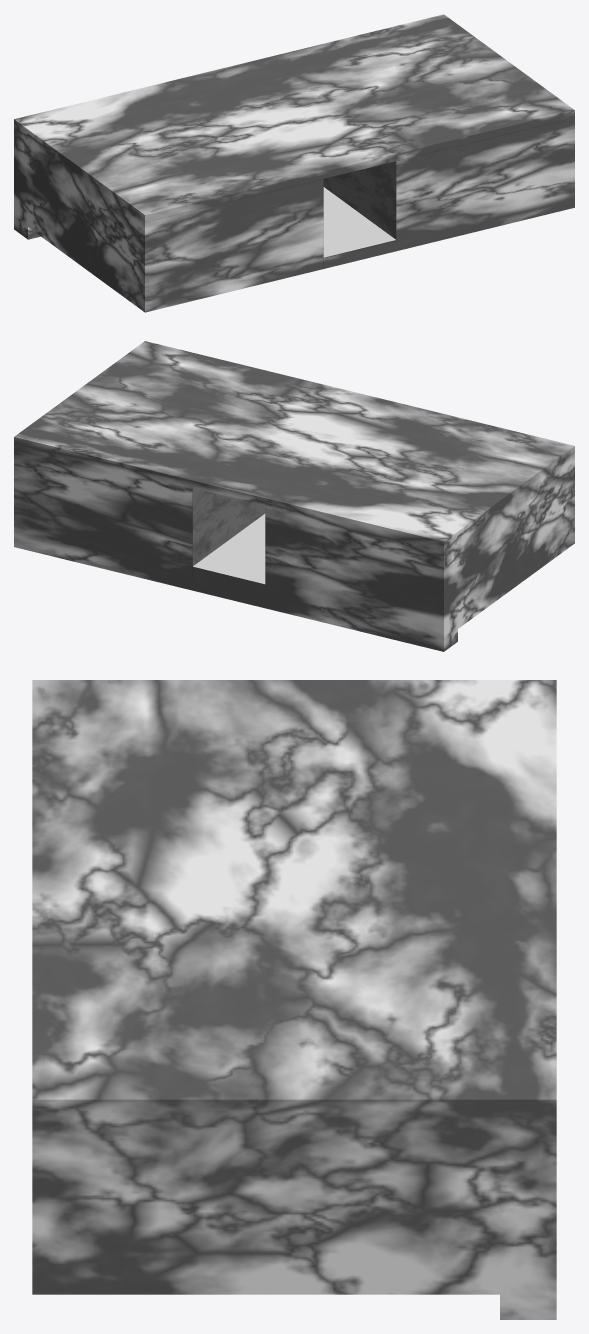
The model's file is Entree.fbx.
3 renders of one model, top to bottom at view 1: azimuth 30°, elevation 25°; view 2: azimuth 150°, elevation 25°; view 3: azimuth 270°, elevation 25°, orthographic. The views are drawn at different scales.
Visible parts, largest first — view 1: Entree; view 2: Entree; view 3: Entree.
Boxes of the visible parts, x1,y1,x2,y2 form: Entree: (14, 14, 574, 312); Entree: (14, 341, 574, 651); Entree: (32, 680, 556, 1319).
Bounding box in the file's own units: 3600 × 881 × 1900.
